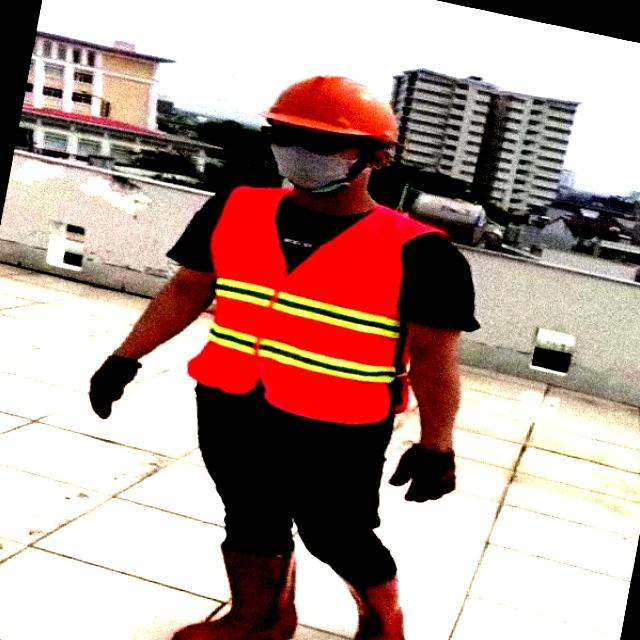helmet: (258, 74, 402, 144)
safety_vest: (198, 189, 416, 425)
